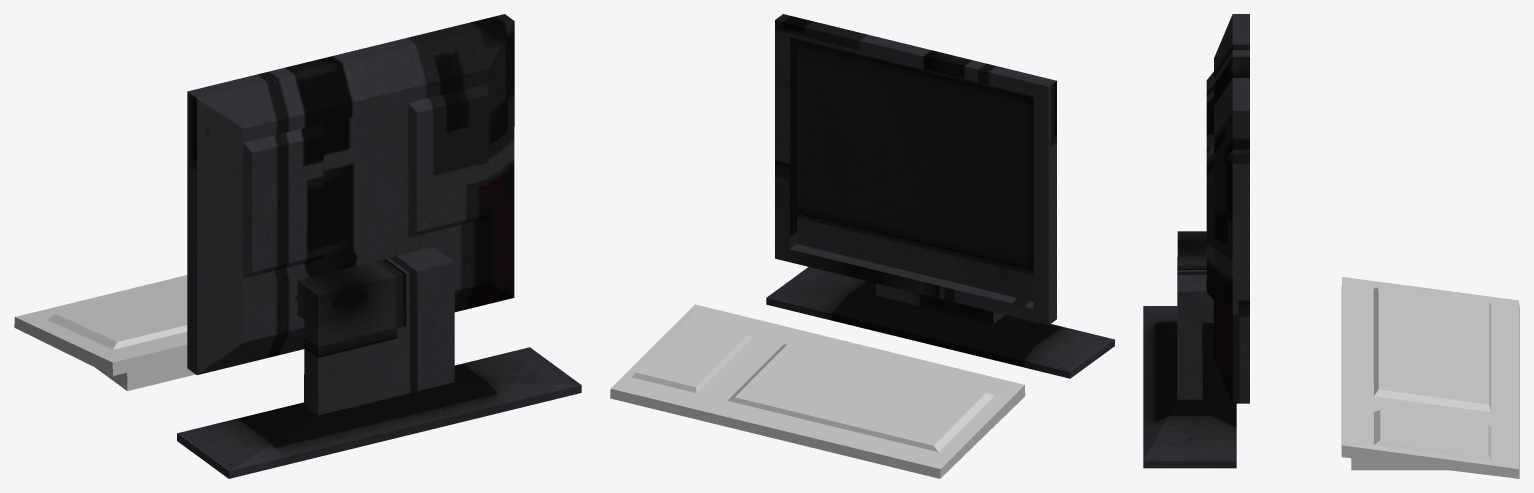
File: CB Computer.obj
The picture shows the model from 3 angles, left to right: view 1: azimuth 30°, elevation 25°; view 2: azimuth 150°, elevation 25°; view 3: azimuth 270°, elevation 25°; orthographic projection. The views are drawn at different scales.
Visible parts, largest first — view 1: Meshesmonitor1, Mesheskeyboard1; view 2: Meshesmonitor1, Mesheskeyboard1; view 3: Mesheskeyboard1, Meshesmonitor1.
Boxes of the visible parts, x1,y1,x2,y2 form: Meshesmonitor1: (177, 14, 581, 478); Mesheskeyboard1: (14, 275, 195, 390); Meshesmonitor1: (766, 14, 1114, 378); Mesheskeyboard1: (610, 304, 1025, 478); Mesheskeyboard1: (1341, 277, 1519, 478); Meshesmonitor1: (1143, 14, 1249, 468).
Bounding box in the file's own units: 4 × 3.4 × 3.78.
